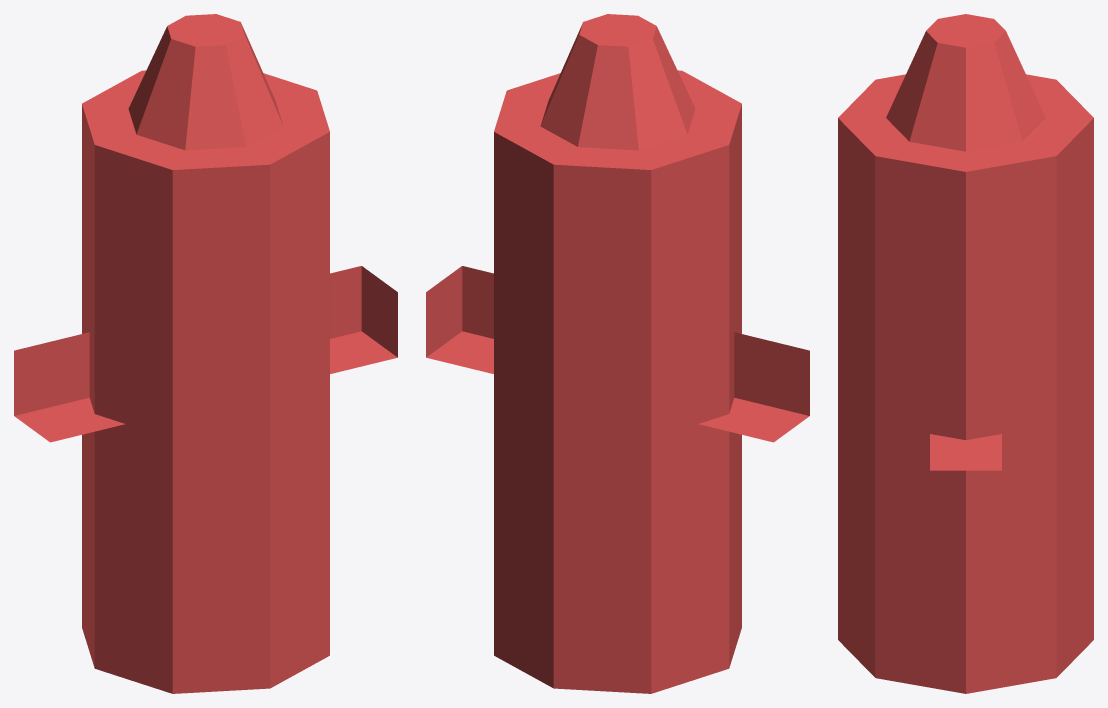
Rendered from hydrant.glb.
3 renders of one model, left to right at view 1: azimuth 30°, elevation 25°; view 2: azimuth 150°, elevation 25°; view 3: azimuth 270°, elevation 25°, orthographic.
Visible parts, largest first — view 1: hydrant; view 2: hydrant; view 3: hydrant.
Part boxes in pixels (x1=…): hydrant: x1=14, y1=14, x2=397, y2=693; hydrant: x1=426, y1=14, x2=809, y2=693; hydrant: x1=838, y1=14, x2=1093, y2=693.
Bounding box in the file's own units: 0.5 × 0.84 × 0.32.
